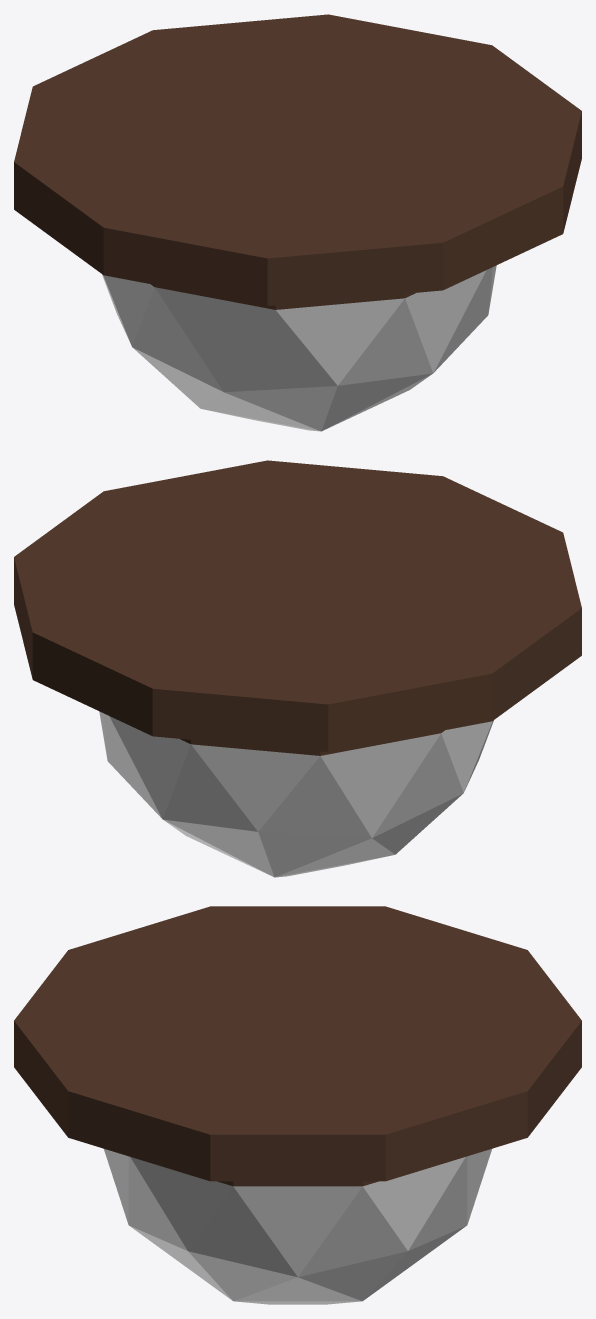
File: CeilingLampSmall.fbx
3 renders of one model, top to bottom at view 1: azimuth 30°, elevation 25°; view 2: azimuth 150°, elevation 25°; view 3: azimuth 270°, elevation 25°, orthographic. The views are drawn at different scales.
Visible parts, largest first — view 1: Icosphere; view 2: Icosphere; view 3: Icosphere.
Part boxes in pixels (x1,y1,x2,y2): Icosphere: (14, 14, 581, 431); Icosphere: (14, 460, 581, 877); Icosphere: (14, 906, 581, 1304).
Bounding box in the file's own units: 258 × 148 × 271.
